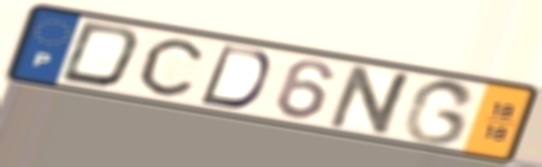6: (271, 58, 339, 120)
C: (136, 37, 206, 99)
D: (55, 19, 145, 90), (195, 42, 274, 111)
G: (399, 77, 480, 147)
N: (323, 63, 421, 139)
